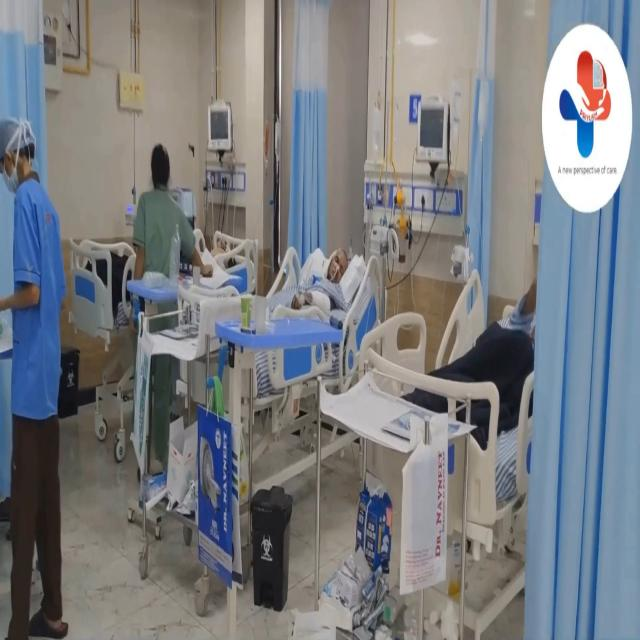Movement-Yes: (485, 242, 536, 379)
